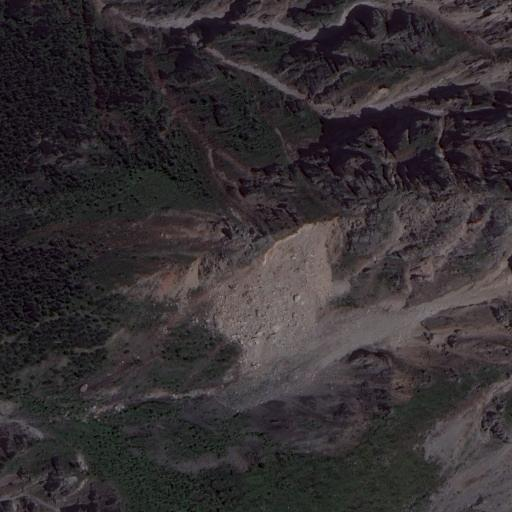landslide: (202, 212, 342, 372)
